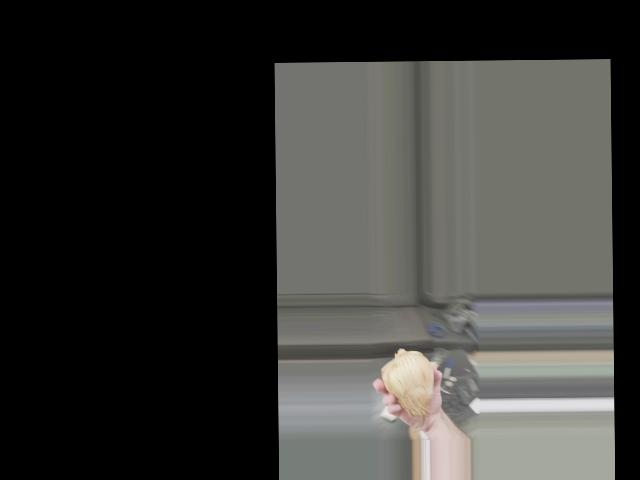onion: (382, 349, 435, 414)
